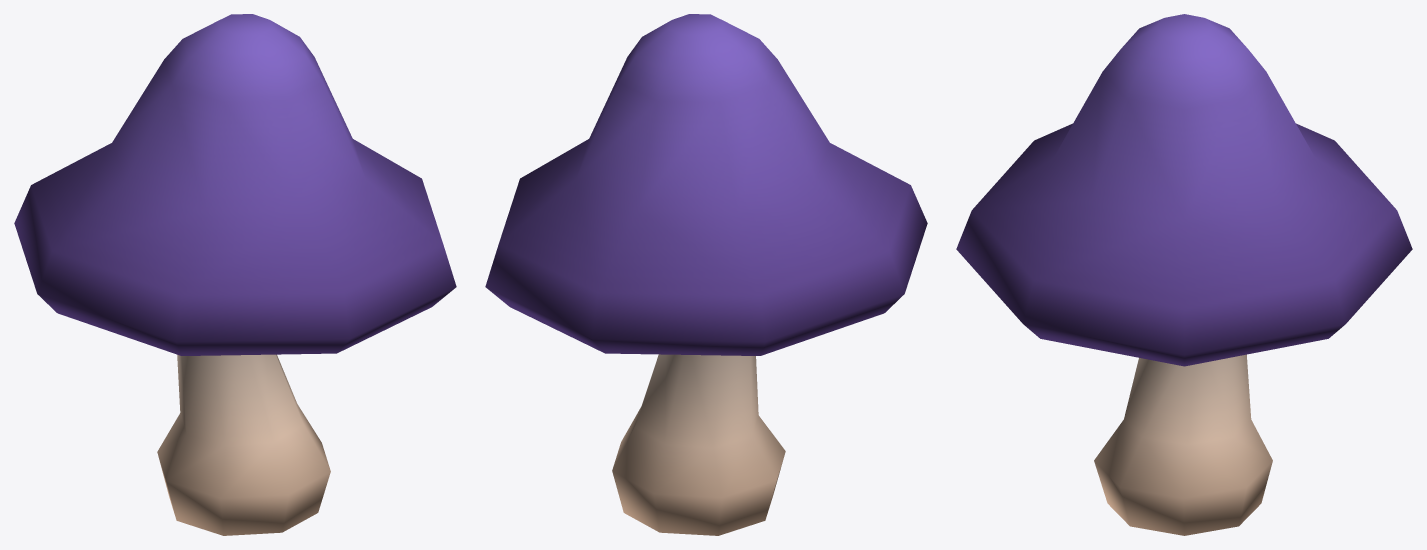
File: Mushroom2_Color4.fbx
The picture shows the model from 3 angles, left to right: view 1: azimuth 30°, elevation 25°; view 2: azimuth 150°, elevation 25°; view 3: azimuth 270°, elevation 25°; orthographic projection.
Parts seen in each view (by area): view 1: Mushroom2_Color4; view 2: Mushroom2_Color4; view 3: Mushroom2_Color4.
Part boxes in pixels (x1,y1,x2,y2): Mushroom2_Color4: (14, 14, 456, 535); Mushroom2_Color4: (485, 14, 927, 535); Mushroom2_Color4: (956, 14, 1412, 535).
Bounding box in the file's own units: 13.55 × 15.69 × 13.56.
